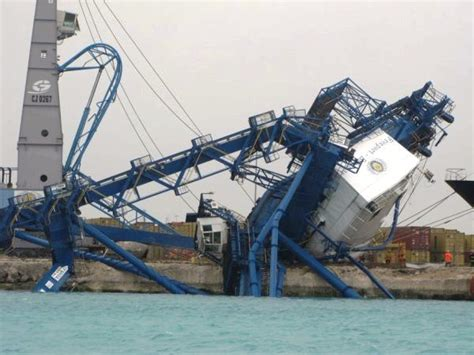pole: (83, 1, 203, 151)
